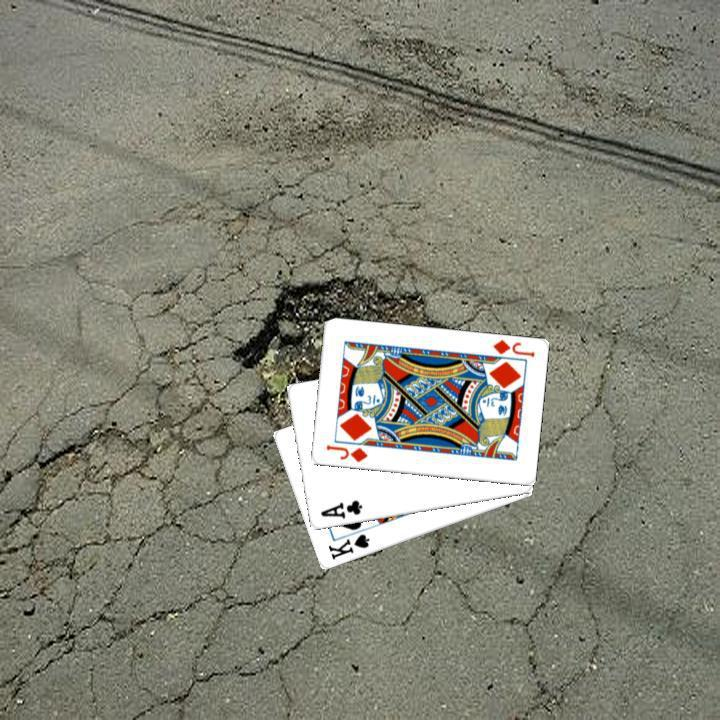A: (316, 496, 364, 521)
J: (322, 440, 369, 465), (488, 335, 536, 359)
K: (323, 530, 372, 562)
